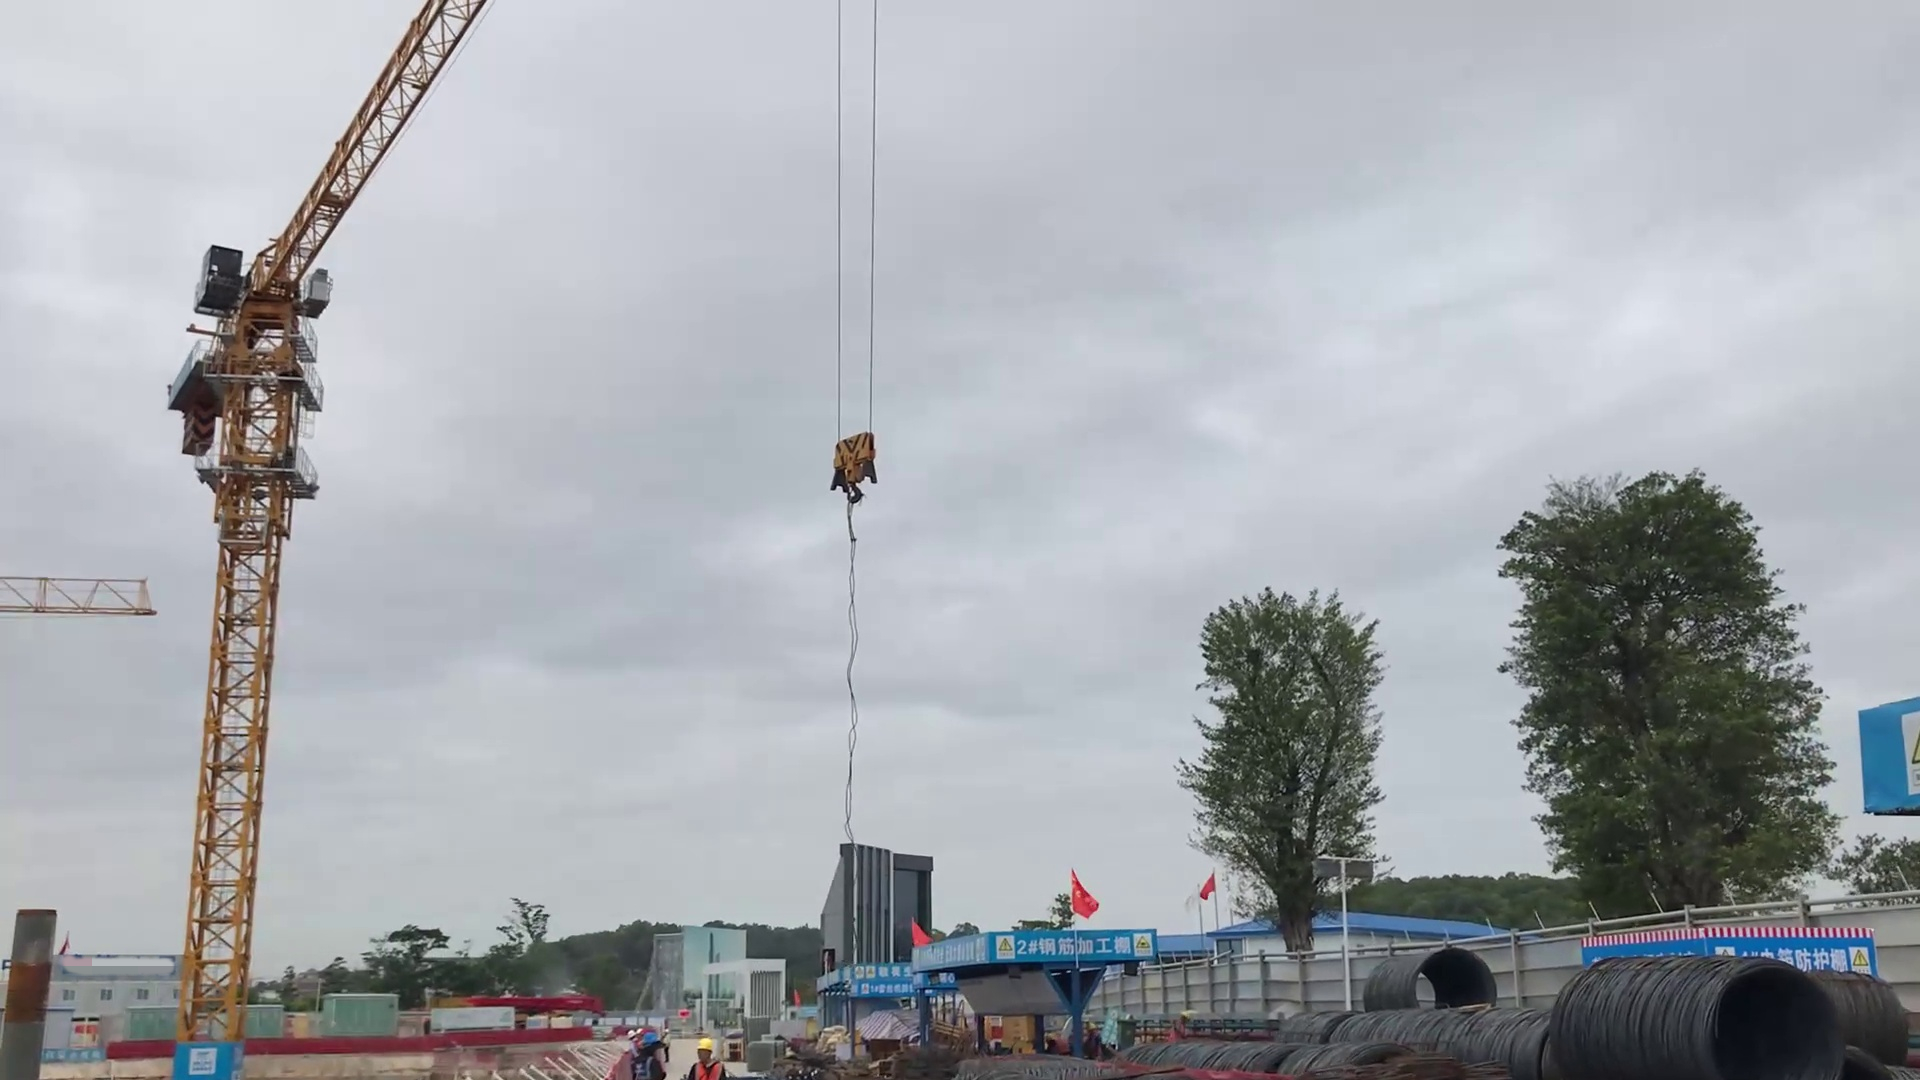helmet: (632, 1029, 665, 1062), (688, 1040, 724, 1065)
hook: (816, 414, 893, 506)
